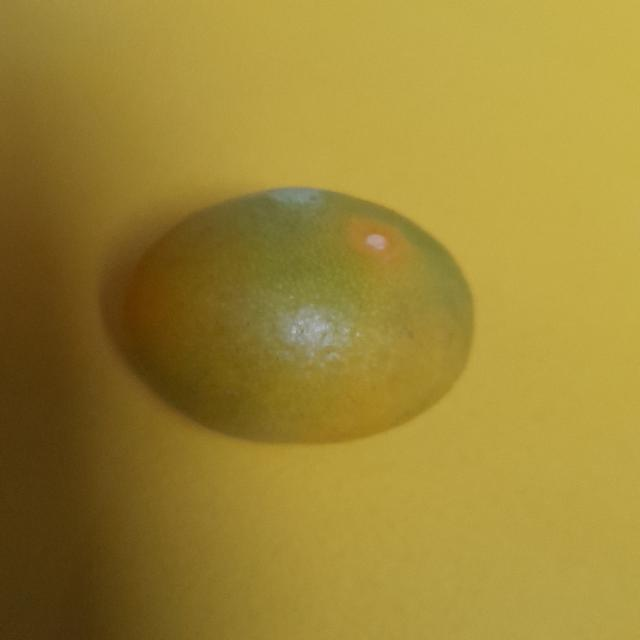greening: (120, 187, 484, 427)
